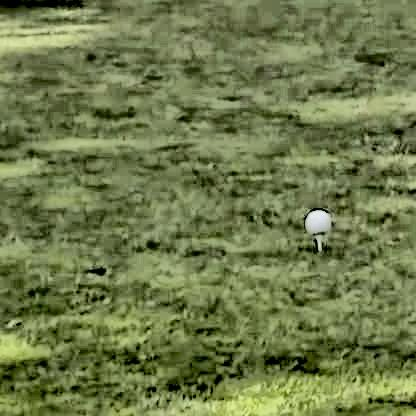golfball: (302, 211, 326, 233)
